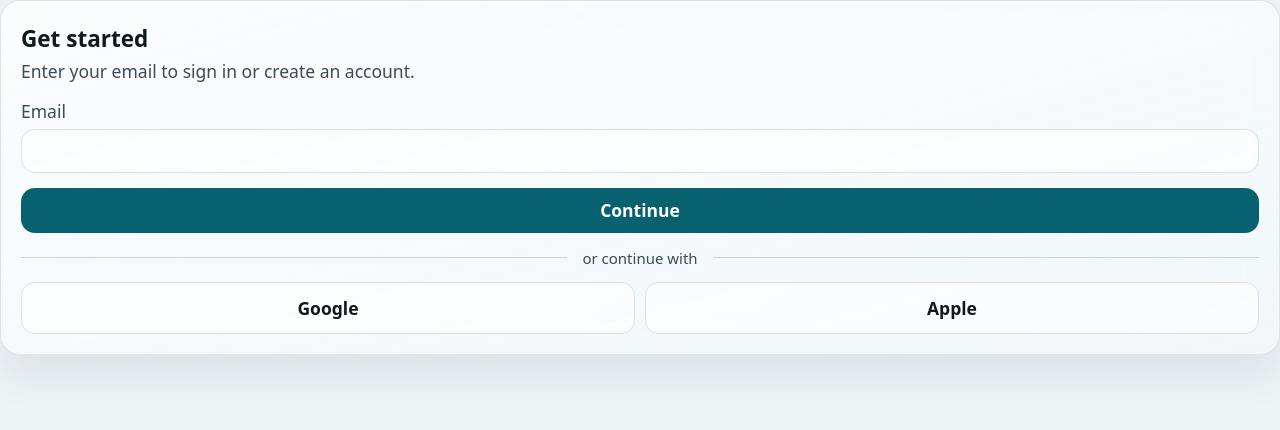
SignInForm › forgot password › shows a Forgot password? link once past the email step, not before
The image size is (1280, 430).
Check: the button "Forgot password?" is not shown
Type "forgot@example.com" into the field labelled "Email" at (640, 150), box [21, 128, 1259, 172]
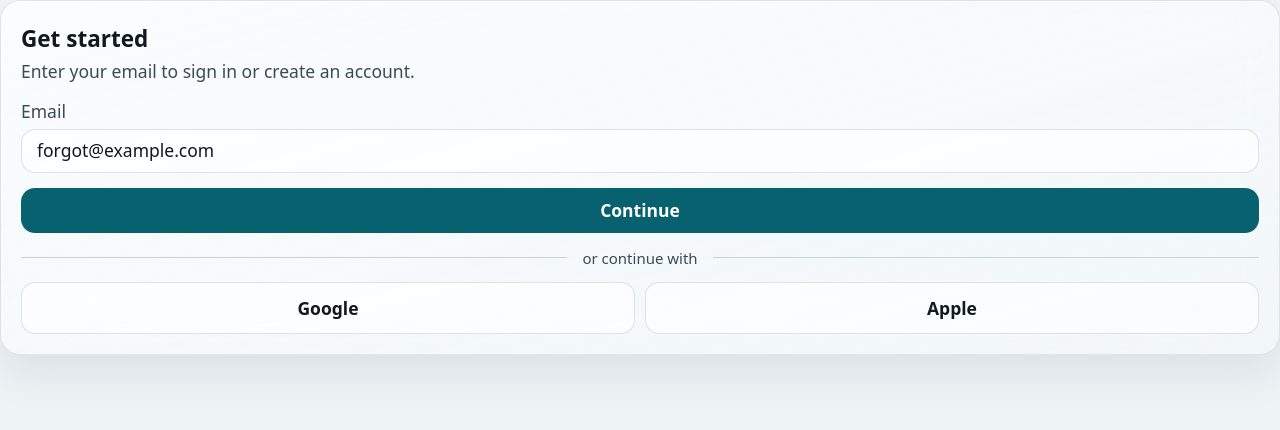
Click the button "Continue" at (640, 210), box [21, 188, 1259, 232]
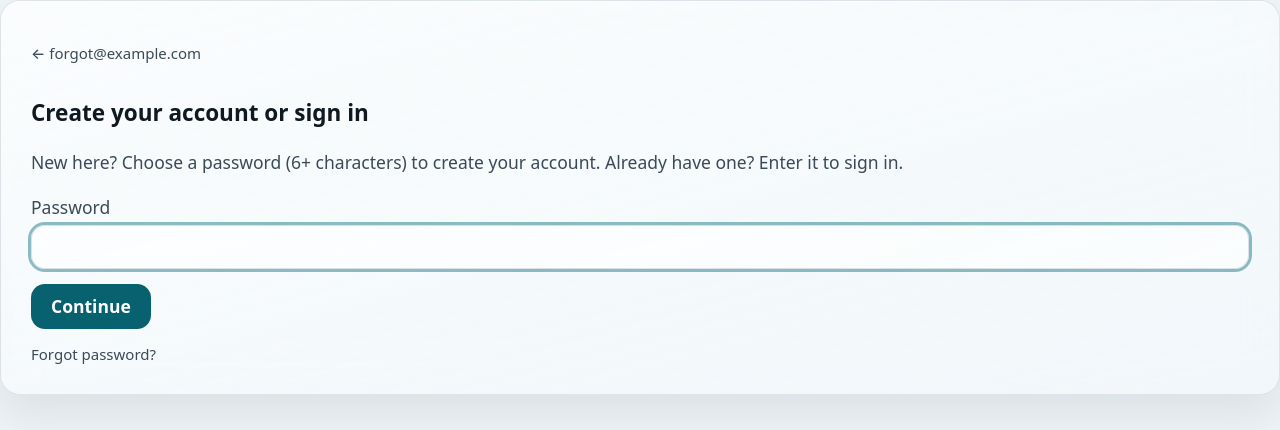
Check: the button "Forgot password?" is shown, box [31, 344, 156, 364]
